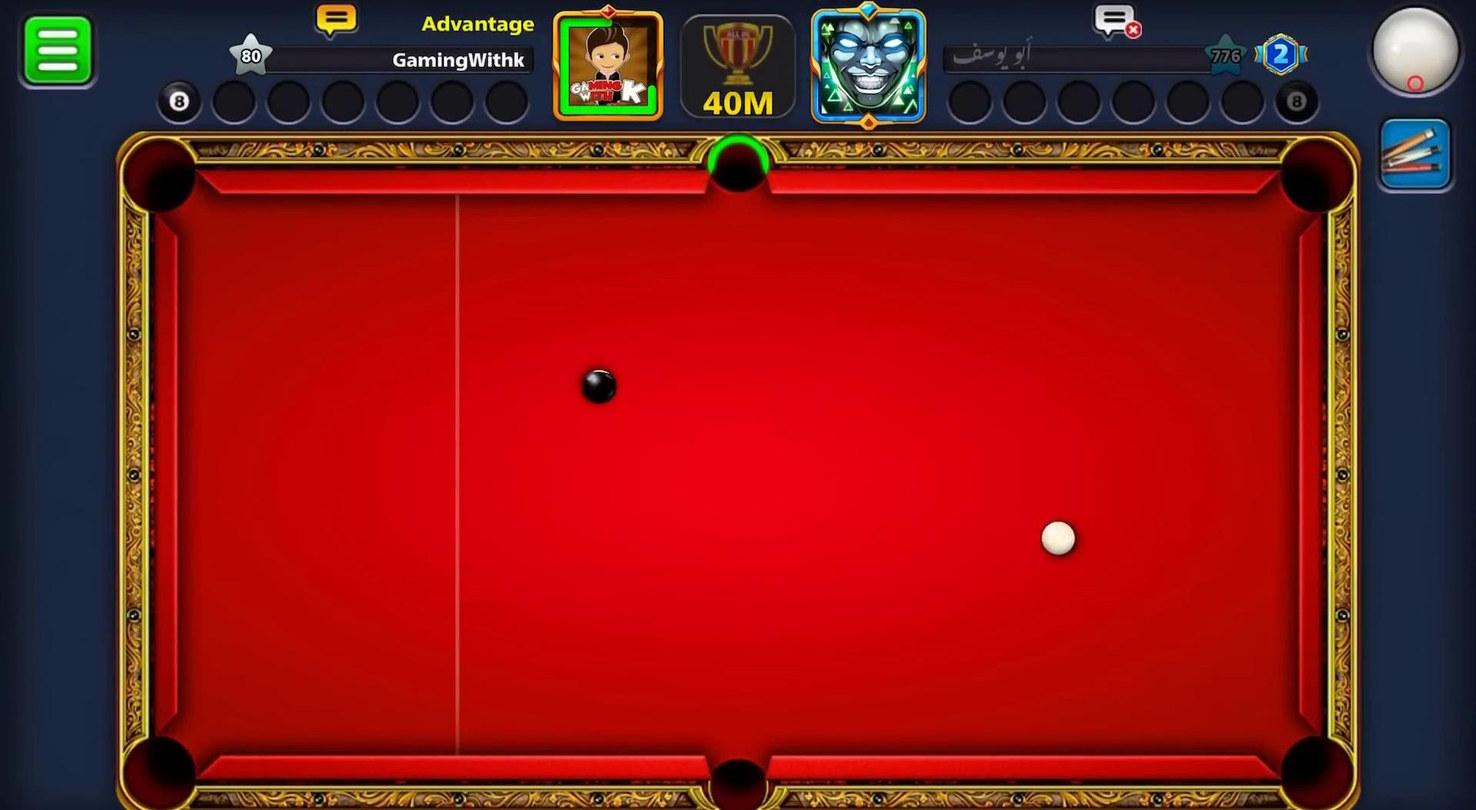Ball: (572, 362, 623, 411)
Hole: (1267, 122, 1363, 232), (1260, 718, 1371, 809), (700, 125, 776, 212), (122, 135, 199, 212), (122, 733, 198, 808), (704, 754, 771, 809)
Play_Area: (176, 193, 1296, 758)
Spin: (1362, 0, 1475, 109)
White: (1038, 516, 1079, 565)
